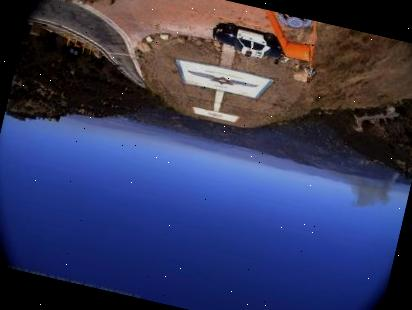smoke: (338, 158, 401, 218)
